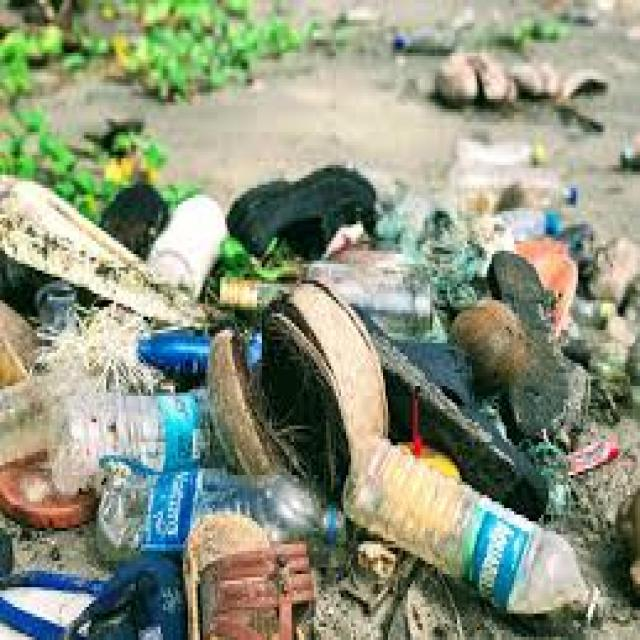Plastic -Non-Biodegradable but Recyclable-: (345, 442, 604, 622), (95, 466, 346, 564), (51, 388, 221, 492), (178, 512, 316, 640), (0, 569, 106, 640), (0, 375, 85, 462), (139, 329, 220, 375), (503, 211, 562, 240)
